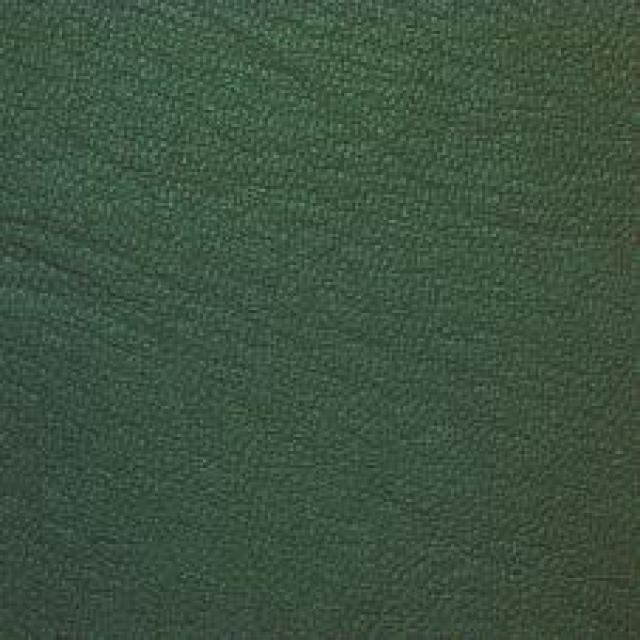Growth Marks: (272, 36, 492, 199), (9, 203, 224, 359), (391, 308, 562, 425)
